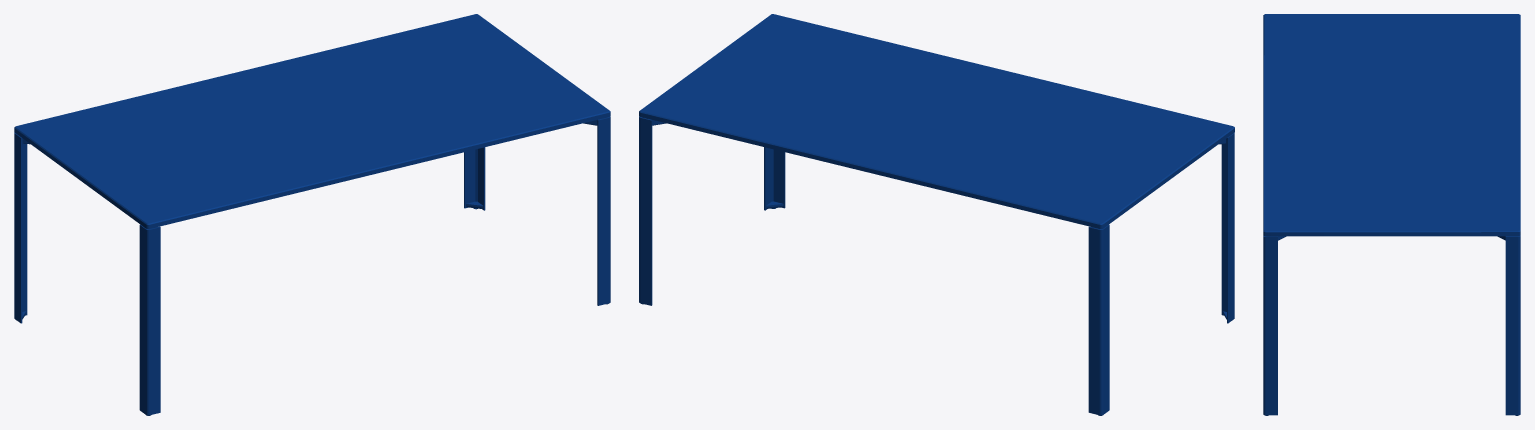
The model's file is table.obj.
3 views of the same model, side by side, from view 1: azimuth 30°, elevation 25°; view 2: azimuth 150°, elevation 25°; view 3: azimuth 270°, elevation 25° (orthographic). The views are drawn at different scales.
Parts seen in each view (by area): view 1: stolic:Cylinder005; view 2: stolic:Cylinder005; view 3: stolic:Cylinder005.
Boxes of the visible parts, <box> form: stolic:Cylinder005: <box>14,14,610,415</box>; stolic:Cylinder005: <box>639,14,1234,415</box>; stolic:Cylinder005: <box>1263,14,1520,415</box>.
Bounding box in the file's own units: 77.98 × 30.93 × 39.
